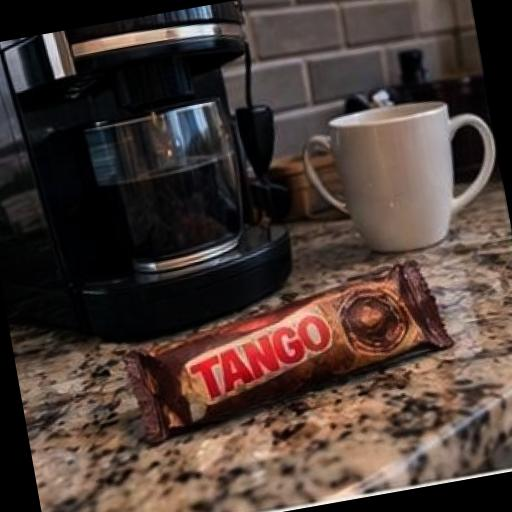tango: (86, 212, 510, 482)
